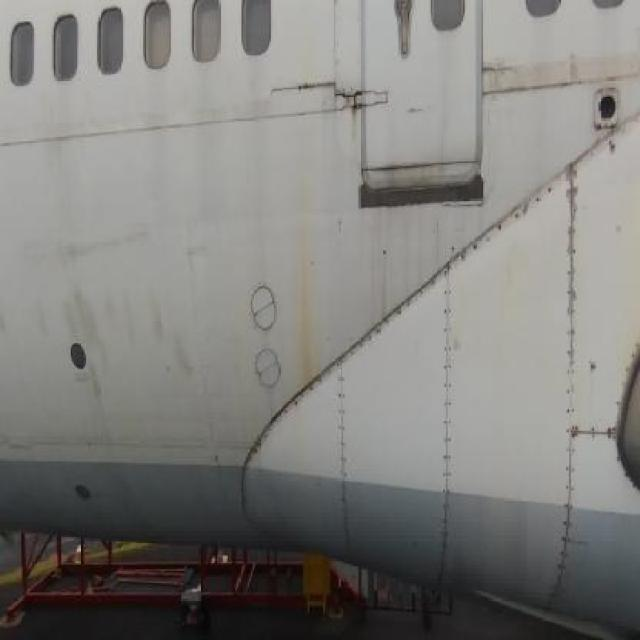Missing-Rivet: (556, 156, 581, 562), (455, 186, 556, 276), (347, 274, 439, 363), (258, 367, 333, 436), (333, 350, 361, 528), (436, 249, 452, 548), (582, 400, 618, 468)
Rust: (288, 195, 337, 396), (345, 69, 364, 153)
Scartch: (2, 278, 205, 418), (2, 222, 161, 273), (482, 53, 588, 107), (176, 210, 216, 276)
